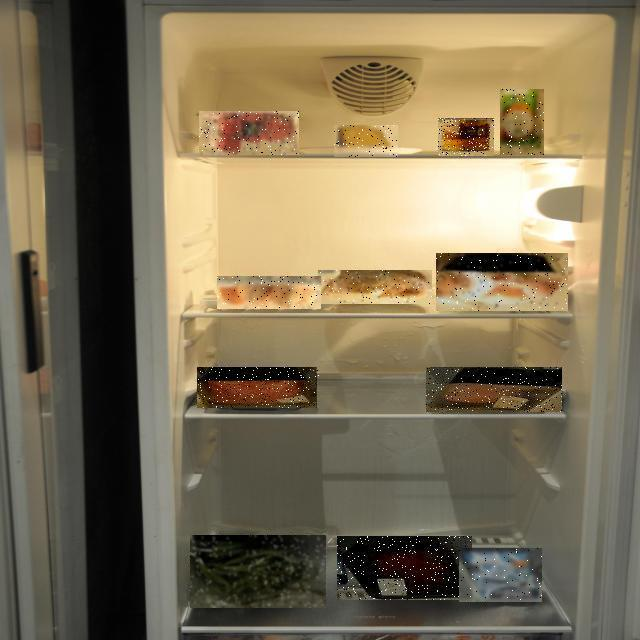cheese: (135, 78, 533, 235)
egg: (56, 154, 378, 463)
